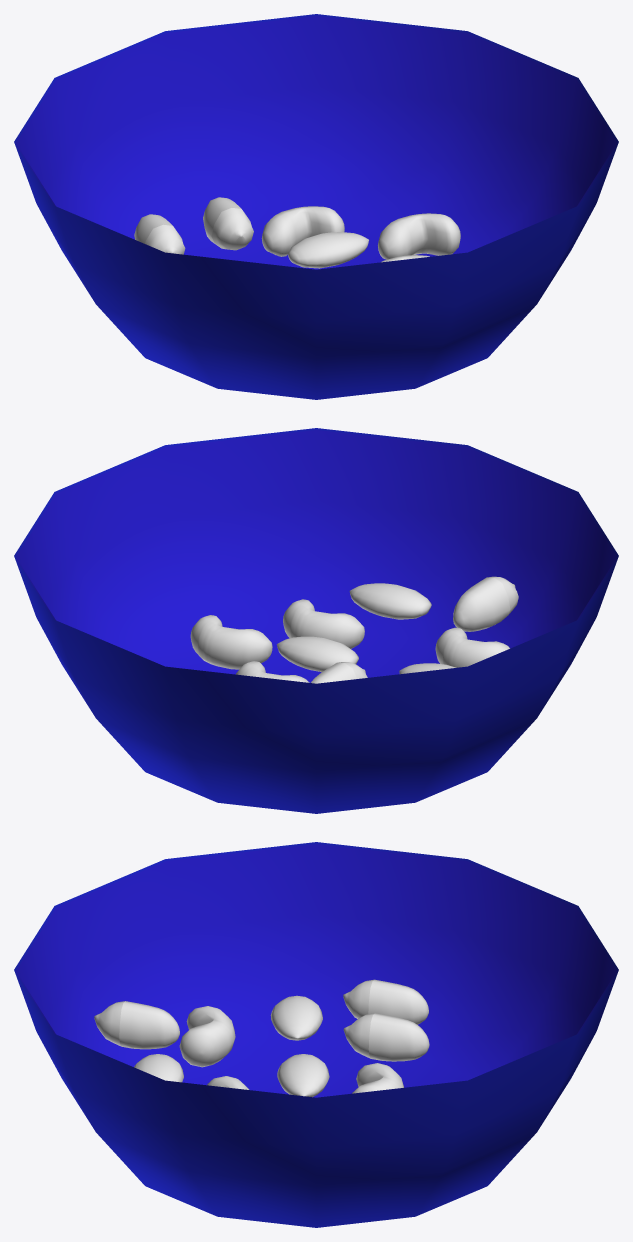
The model's file is nut_food.fbx.
3 renders of one model, top to bottom at view 1: azimuth 30°, elevation 25°; view 2: azimuth 150°, elevation 25°; view 3: azimuth 270°, elevation 25°, orthographic.
Visible parts, largest first — view 1: bowl_Interior, bowl, cashewNut.003, cashewNut.002, almond.001, peanut, peanut.002; view 2: bowl_Interior, bowl, cashewNut.003, peanut.001, cashewNut.001, almond, almond.001, cashewNut, peanut, cashewNut.002; view 3: bowl_Interior, bowl, peanut, peanut.001, peanut.002, cashewNut, almond.002, almond.001, cashewNut.002, almond.
Part boxes in pixels (x1,y1,x2,y2): bowl_Interior: (16,16,616,269); bowl: (14,14,618,399); cashewNut.003: (378,213,460,259); cashewNut.002: (261,206,344,256); almond.001: (288,232,368,268); peanut: (203,197,253,250); peanut.002: (134,214,185,254); bowl_Interior: (16,430,616,682); bowl: (14,428,618,813); cashewNut.003: (190,615,272,669); peanut.001: (453,576,518,631); cashewNut.001: (283,599,364,648); almond: (349,583,431,619); almond.001: (277,636,358,671); cashewNut: (435,627,509,667); peanut: (311,662,367,683); cashewNut.002: (236,661,309,682); bowl_Interior: (16,844,616,1097); bowl: (14,842,618,1227); peanut: (343,1013,429,1061); peanut.001: (94,1001,179,1049); peanut.002: (343,979,428,1024); cashewNut: (179,1006,235,1067); almond.002: (270,995,322,1040); almond.001: (277,1054,329,1097); cashewNut.002: (352,1063,403,1093); almond: (134,1054,183,1082).
Bounding box in the file's own units: 61.82 × 19.68 × 61.82.
